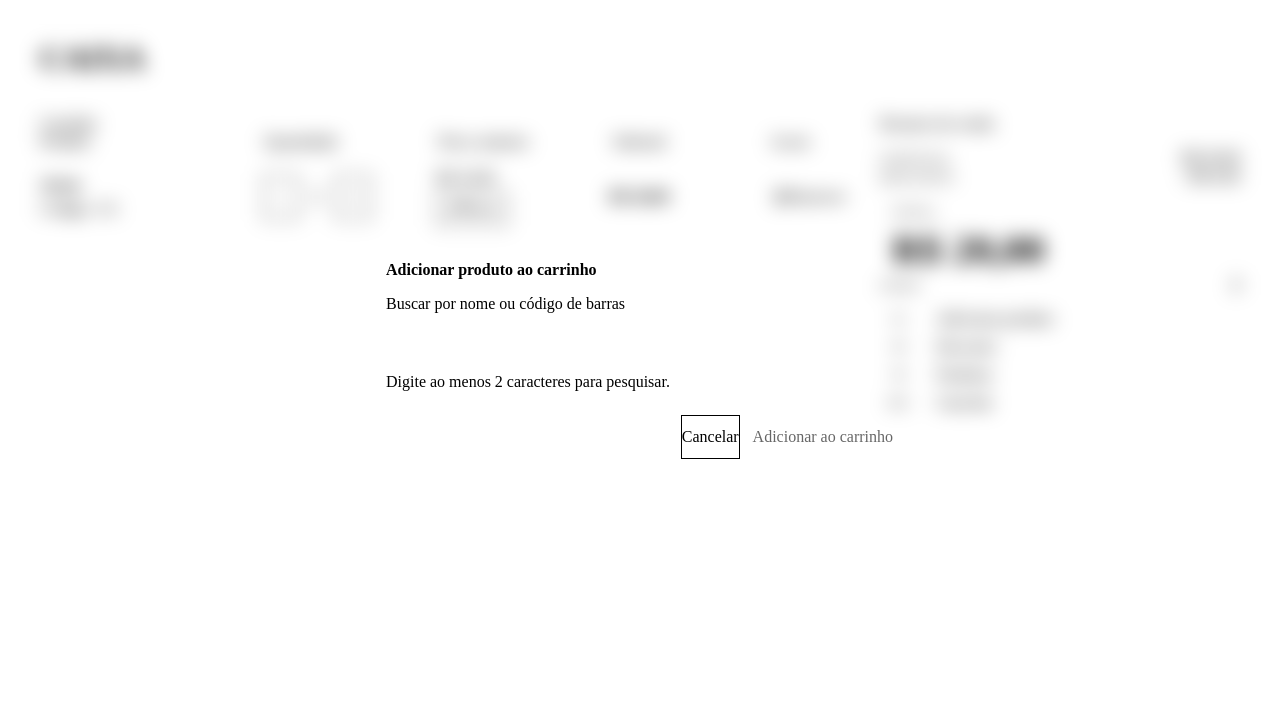
Test: CaixaPage checkout flow › cancela e fecha com Escape sem alterar o carrinho nem cancelar a venda
Click the button "Cancelar": (710, 437) [681,415,740,459]
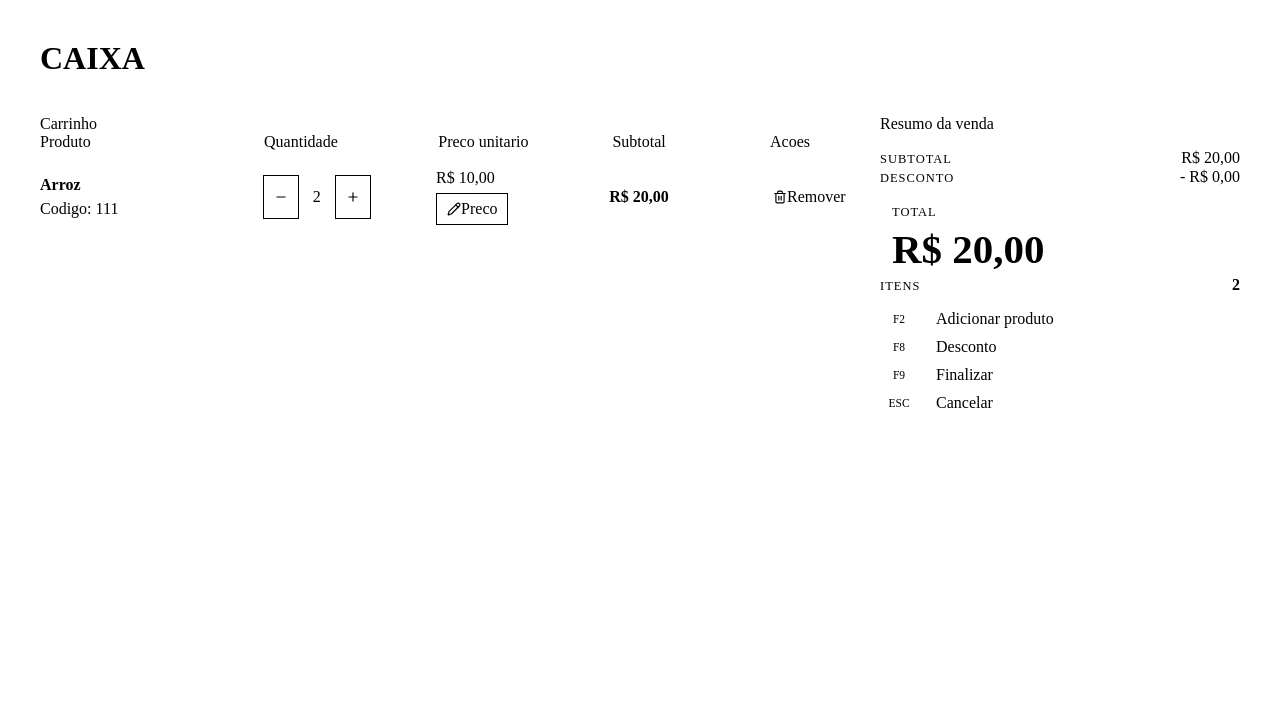
Expected: the dialog is gone
